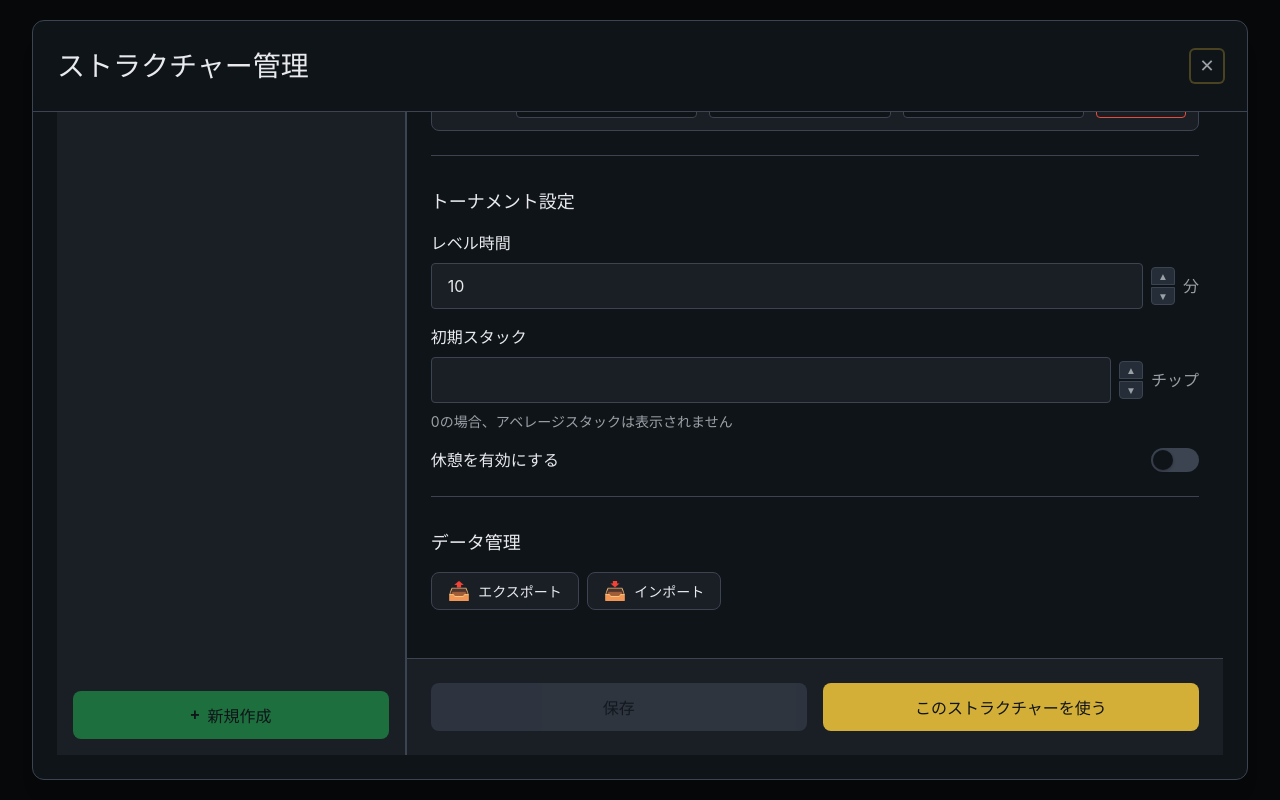
StructureManagementModal › 新規作成ボタンクリックで新しいストラクチャーが作成される
(page scrolled)
Click the button with test id "create-structure-button" at [231, 715], box [73,691,389,739]
(page scrolled)
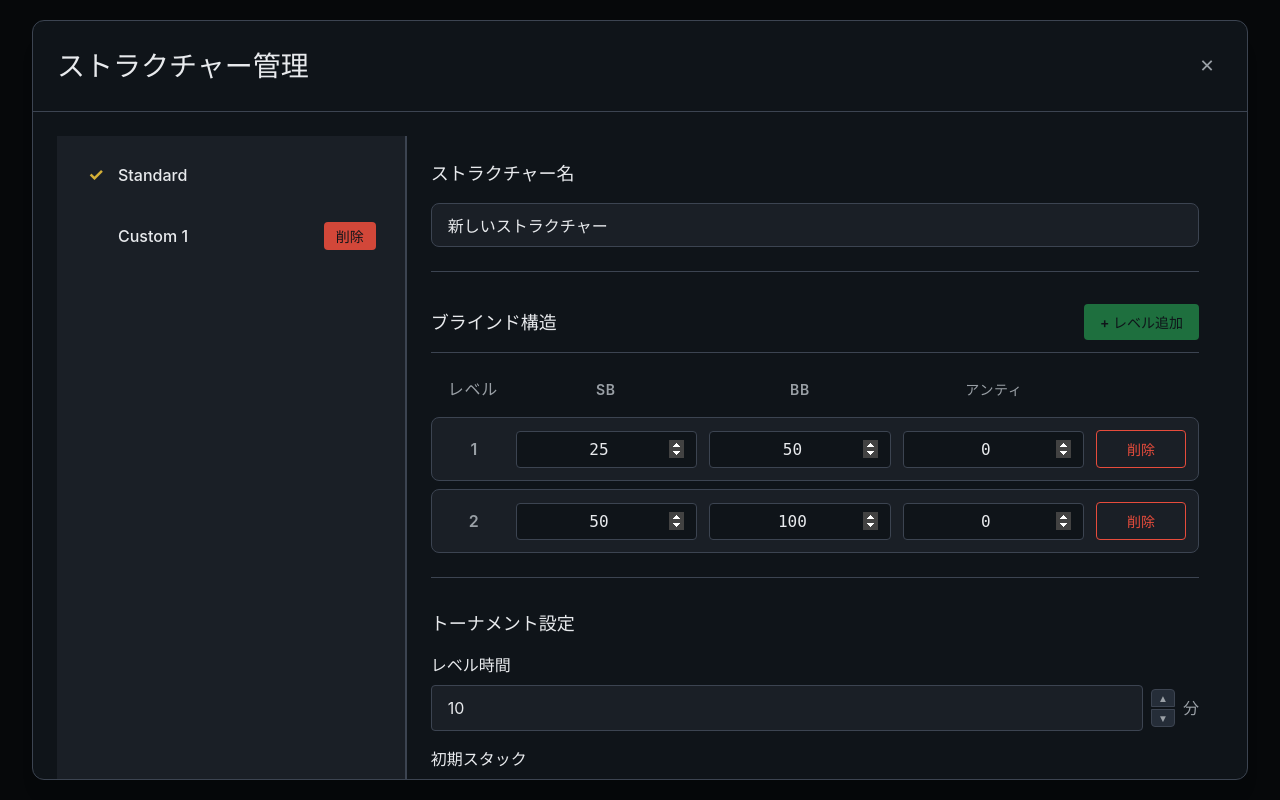
Now the field with test id "structure-name-input" holds "新しいストラクチャー", box [431,203,1199,247]
